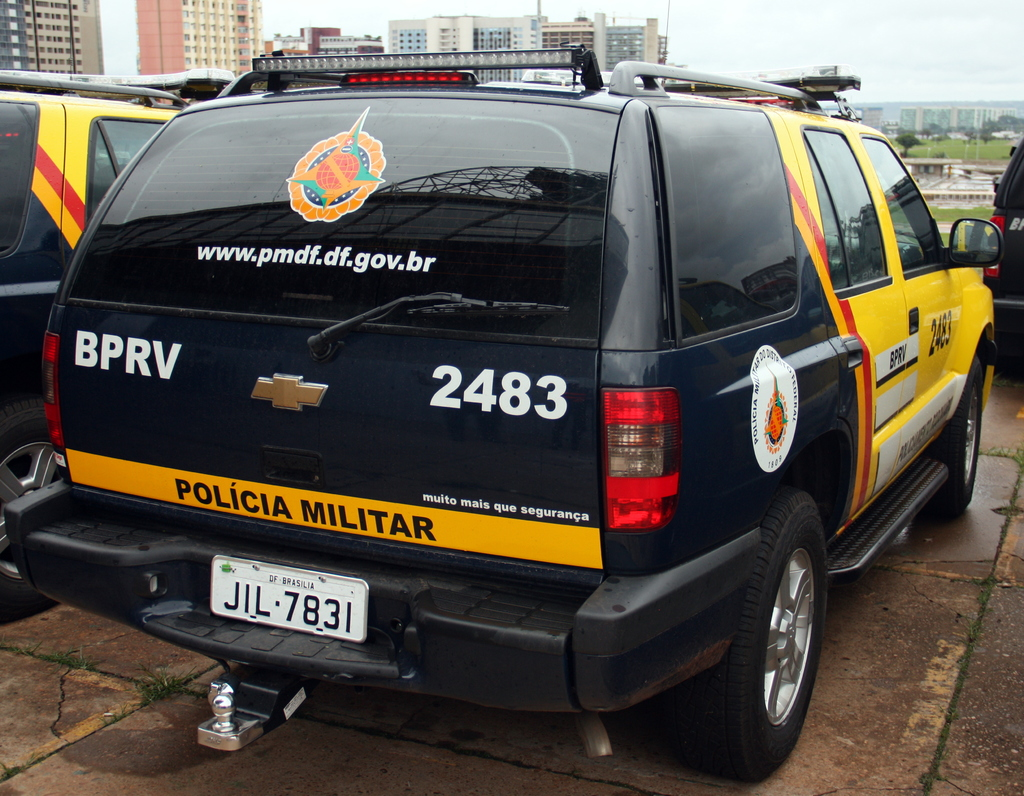license plate: (218, 551, 374, 624)
